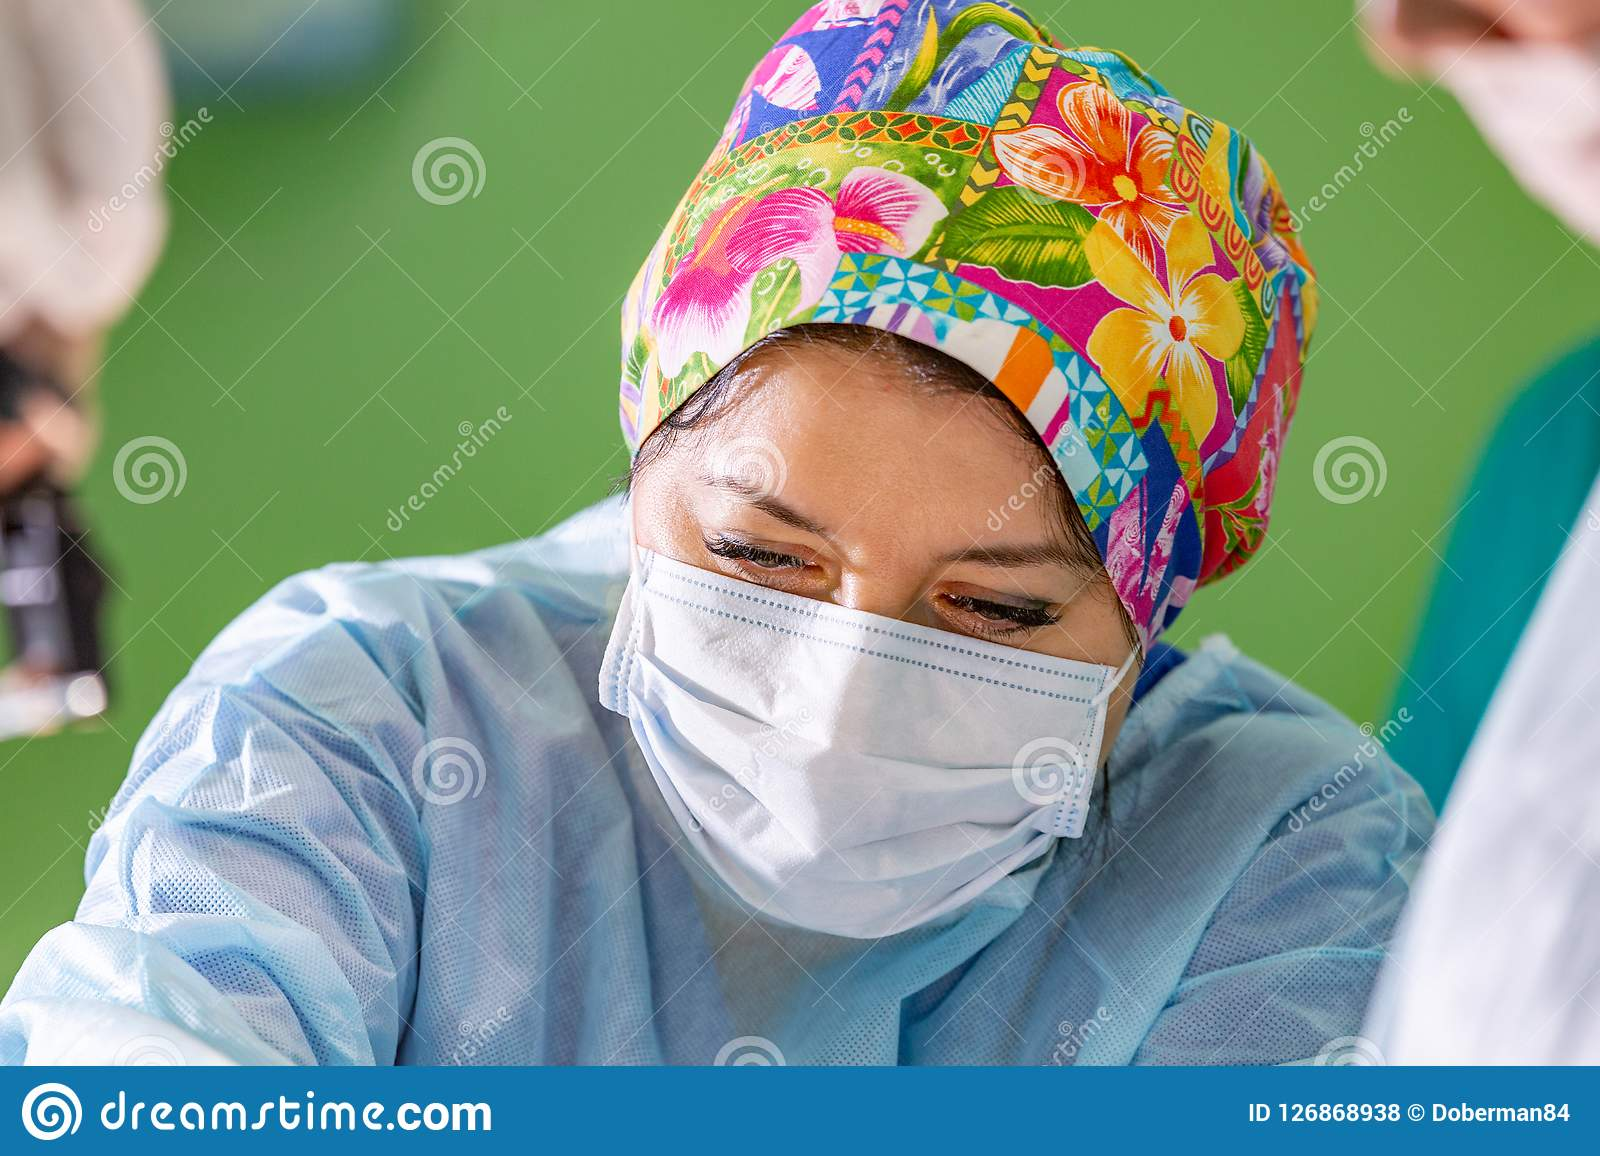mask: (594, 586, 1142, 950)
